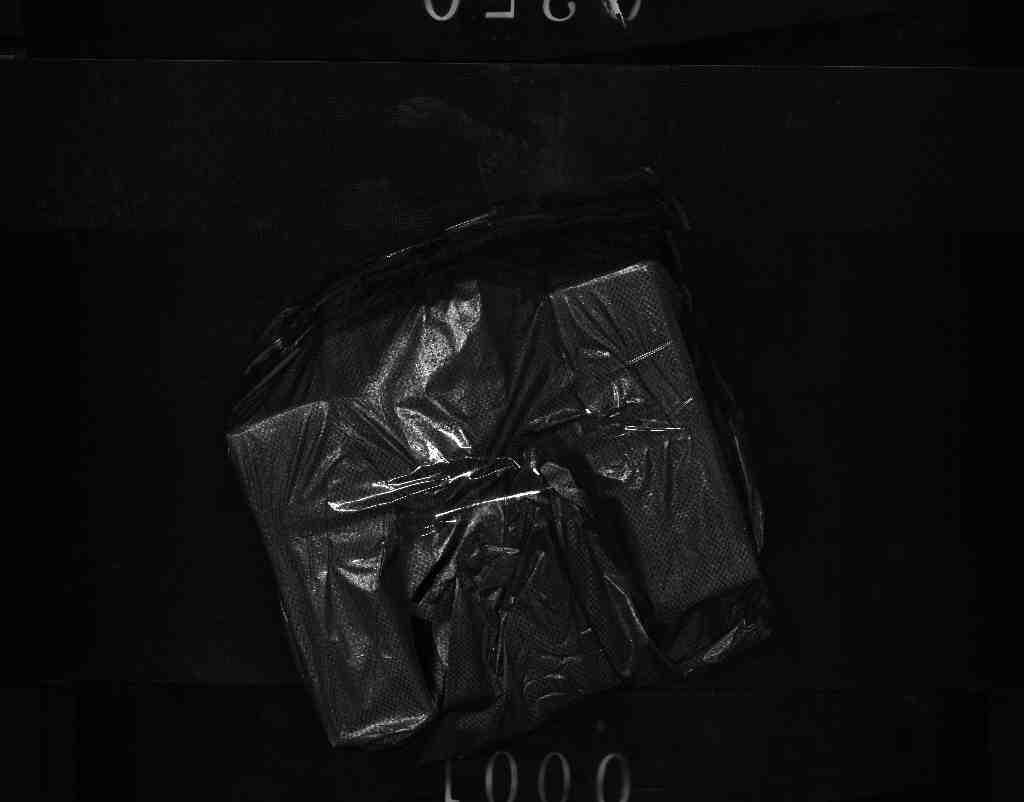box: (227, 175, 798, 779)
